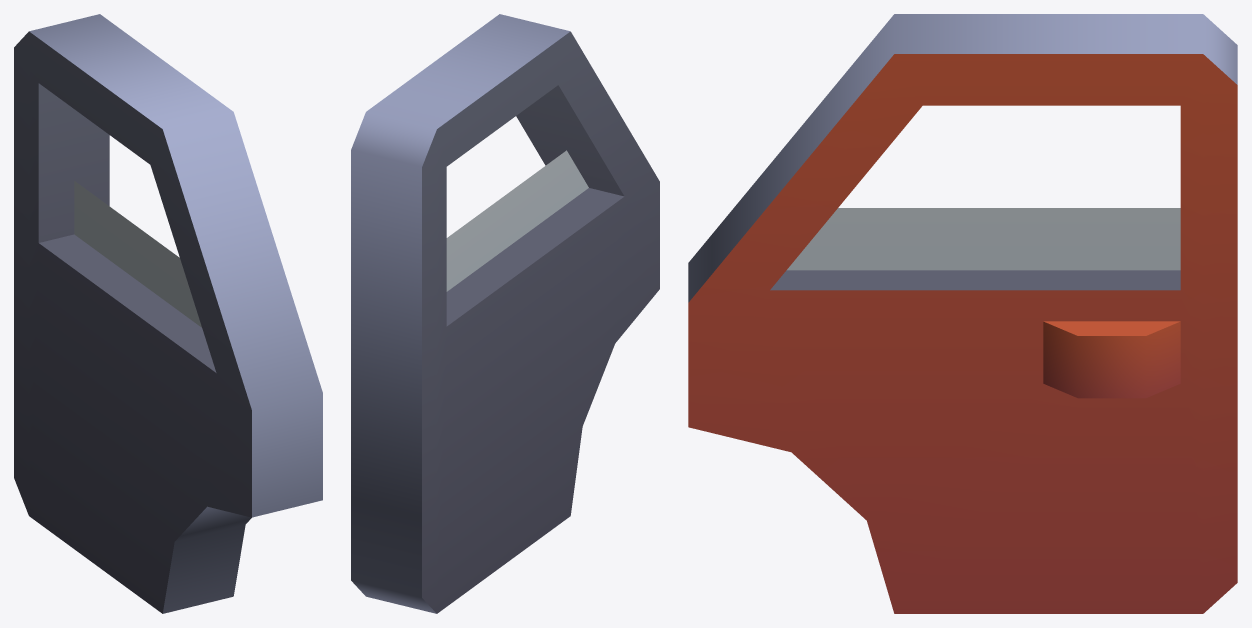
File: debris-door-window.glb
The picture shows the model from 3 angles, left to right: view 1: azimuth 30°, elevation 25°; view 2: azimuth 150°, elevation 25°; view 3: azimuth 270°, elevation 25°; orthographic projection. The views are drawn at different scales.
Parts seen in each view (by area): view 1: debris-door-window; view 2: debris-door-window; view 3: debris-door-window.
Boxes of the visible parts, box(x1,y1,x2,y2) form: debris-door-window: box(14, 14, 322, 613); debris-door-window: box(351, 14, 659, 613); debris-door-window: box(688, 14, 1237, 613).
Size of the model in its own units: 0.188 by 0.9 by 0.8.
